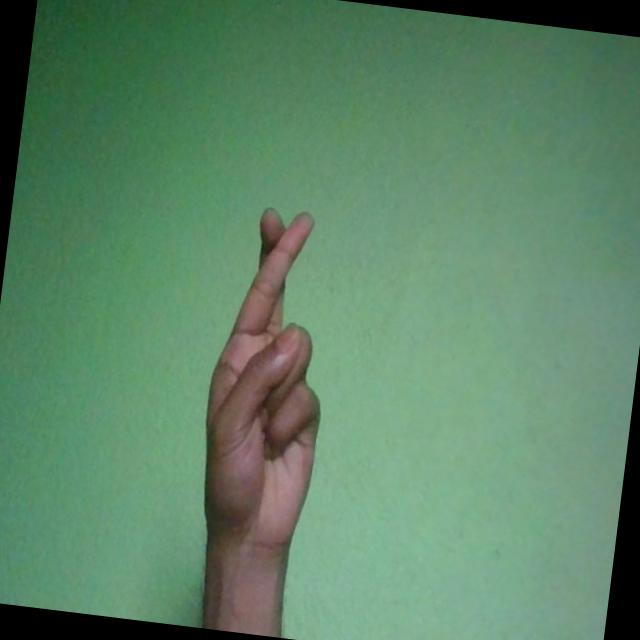Ok: (190, 200, 346, 564)
